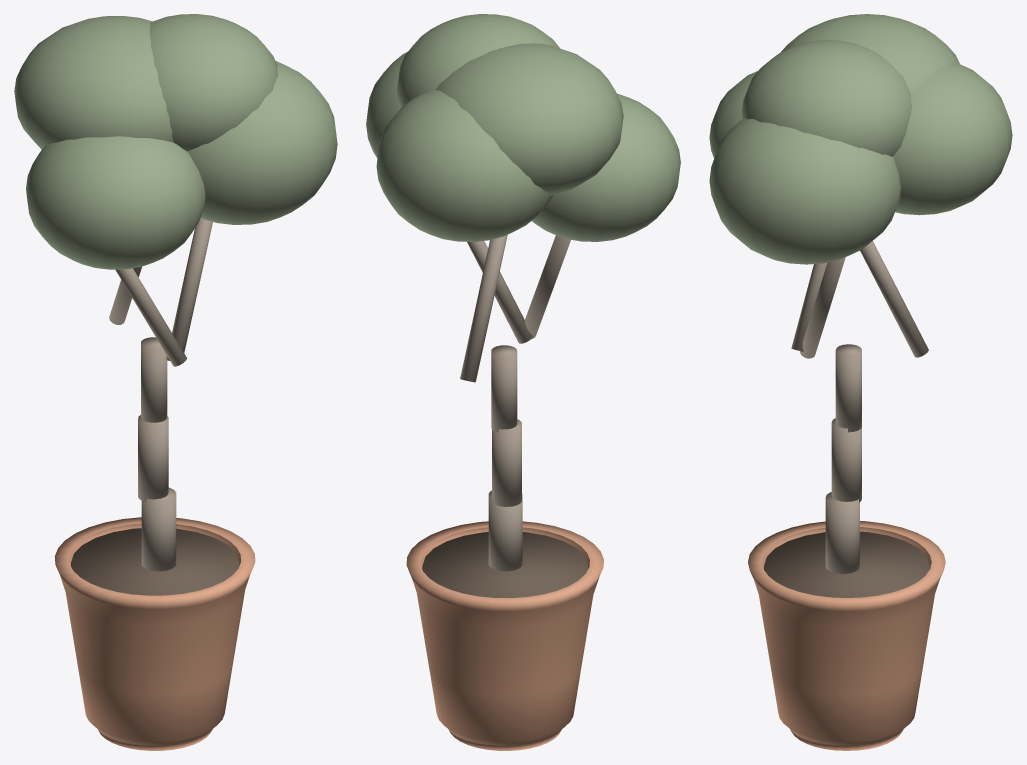
File: prop_plant.glb
3 renders of one model, left to right at view 1: azimuth 30°, elevation 25°; view 2: azimuth 150°, elevation 25°; view 3: azimuth 270°, elevation 25°, orthographic.
Visible parts, largest first — view 1: PlanterPot, Sphere, Sphere.003, Sphere.001, Sphere.004, Cylinder, Cylinder.001, Cylinder.002, Cylinder.003, Cylinder.005, Cylinder.004, Cylinder.006; view 2: PlanterPot, Sphere.003, Sphere.002, Sphere, Cylinder, Sphere.004, Cylinder.006, Cylinder.001, Cylinder.002, Cylinder.003, Sphere.001, Cylinder.004 (+1 smaller); view 3: PlanterPot, Sphere.001, Sphere.004, Sphere.002, Cylinder, Sphere.003, Cylinder.001, Cylinder.002, Cylinder.003, Cylinder.006, Cylinder.005, Sphere (+1 smaller).
Boxes of the visible parts, <box> form: PlanterPot: <box>54,517,255,750</box>; Sphere: <box>26,136,205,269</box>; Sphere.003: <box>14,16,173,149</box>; Sphere.001: <box>187,61,337,224</box>; Sphere.004: <box>149,14,278,151</box>; Cylinder: <box>71,528,239,595</box>; Cylinder.001: <box>141,487,176,571</box>; Cylinder.002: <box>138,415,168,501</box>; Cylinder.003: <box>141,337,167,422</box>; Cylinder.005: <box>166,218,212,360</box>; Cylinder.004: <box>115,268,186,366</box>; Cylinder.006: <box>109,266,141,324</box>; PlanterPot: <box>406,521,603,750</box>; Sphere.003: <box>436,43,623,195</box>; Sphere.002: <box>376,89,553,241</box>; Sphere: <box>532,93,680,241</box>; Cylinder: <box>422,532,587,597</box>; Sphere.004: <box>397,14,559,107</box>; Cylinder.006: <box>460,235,507,382</box>; Cylinder.001: <box>488,490,522,571</box>; Cylinder.002: <box>492,419,521,506</box>; Cylinder.003: <box>491,345,517,432</box>; Sphere.001: <box>366,51,407,158</box>; Cylinder.004: <box>525,235,570,339</box>; PlanterPot: <box>748,521,945,750</box>; Sphere.001: <box>709,118,900,264</box>; Sphere.004: <box>741,40,911,156</box>; Sphere.002: <box>893,63,1012,215</box>; Cylinder: <box>764,531,929,597</box>; Sphere.003: <box>781,14,959,92</box>; Cylinder.001: <box>825,492,859,573</box>; Cylinder.002: <box>831,418,861,502</box>; Cylinder.003: <box>835,344,861,432</box>; Cylinder.006: <box>860,241,928,357</box>; Cylinder.005: <box>800,257,845,358</box>; Sphere: <box>709,71,757,158</box>.
Size of the model in its own units: 0.82 by 1.88 by 0.75.
